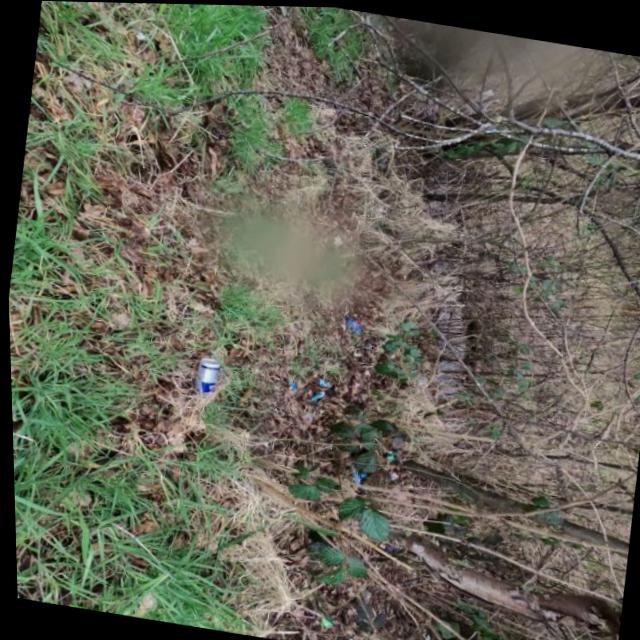Can-Metal: (190, 354, 223, 397), (379, 445, 400, 462), (386, 468, 397, 479)
Plastic: (343, 317, 361, 330), (308, 388, 323, 400), (315, 376, 329, 386), (285, 379, 296, 390)
